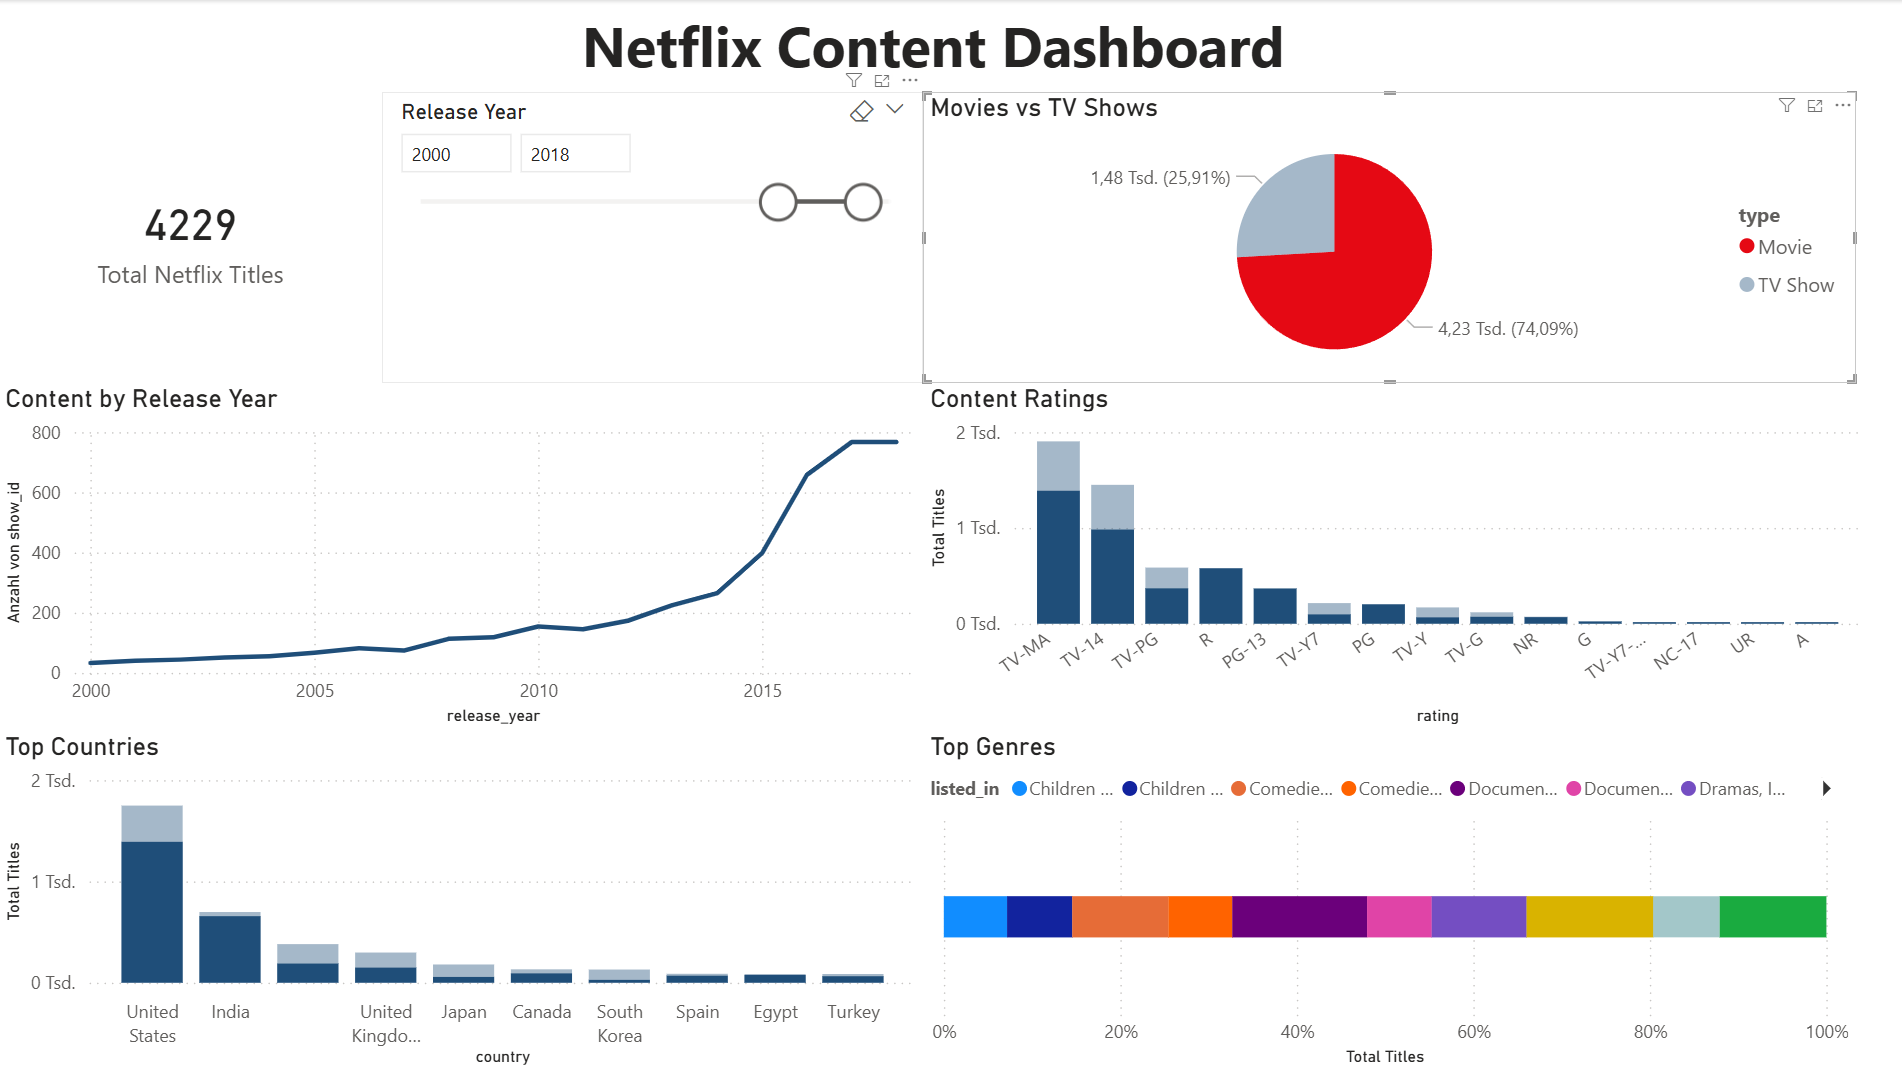

Layout of this report page (visuals, bound fields, positions):
{"tool":"powerbi","page":{"name":"Seite 1","canvas":[1280,720],"ordinal":0},"visuals":[{"type":"card","fields":{"Values":["Count(netflix_titles.show_id)"]},"box":[0,61.8,621.1,195.4],"z":0},{"type":"pieChart","title":"Movies vs TV Shows","fields":{"Category":["netflix_titles.type"],"Y":["CountNonNull(netflix_titles.show_id)"]},"box":[621.1,61.8,626.3,195.4],"z":1000},{"type":"lineChart","title":"Content by Release Year","fields":{"Category":["netflix_titles.release_year"],"Y":["CountNonNull(netflix_titles.show_id)"]},"box":[0,257.2,621.1,233.6],"z":1001},{"type":"clusteredColumnChart","title":"Content Ratings","fields":{"Category":["netflix_titles.rating"],"Y":["netflix_titles.Total Titles"]},"box":[621.1,257.2,634.2,233.6],"z":1002},{"type":"clusteredColumnChart","title":"Top Countries","fields":{"Category":["netflix_titles.country"],"Y":["netflix_titles.Total Titles"]},"box":[0,490.8,621.1,228.9],"z":1003},{"type":"hundredPercentStackedBarChart","title":"Top Genres","fields":{"Series":["netflix_titles.listed_in"],"Y":["netflix_titles.Total Titles"]},"box":[621.1,490.8,626.3,228.9],"z":1004},{"type":"textbox","box":[0,0,1255.3,61.8],"z":1005}]}

Visuals, with their boxes in screenshot pixels (x1, y1, x2, y2), scaled from the page's 1280x720 canvas onto the 1902x1072 screenshot:
card - Count(netflix_titles.show_id): {"x1": 0, "y1": 92, "x2": 923, "y2": 383}
"Movies vs TV Shows" pieChart: {"x1": 923, "y1": 92, "x2": 1854, "y2": 383}
"Content by Release Year" lineChart: {"x1": 0, "y1": 383, "x2": 923, "y2": 731}
"Content Ratings" clusteredColumnChart: {"x1": 923, "y1": 383, "x2": 1865, "y2": 731}
"Top Countries" clusteredColumnChart: {"x1": 0, "y1": 731, "x2": 923, "y2": 1071}
"Top Genres" hundredPercentStackedBarChart: {"x1": 923, "y1": 731, "x2": 1854, "y2": 1071}
textbox: {"x1": 0, "y1": 0, "x2": 1865, "y2": 92}
